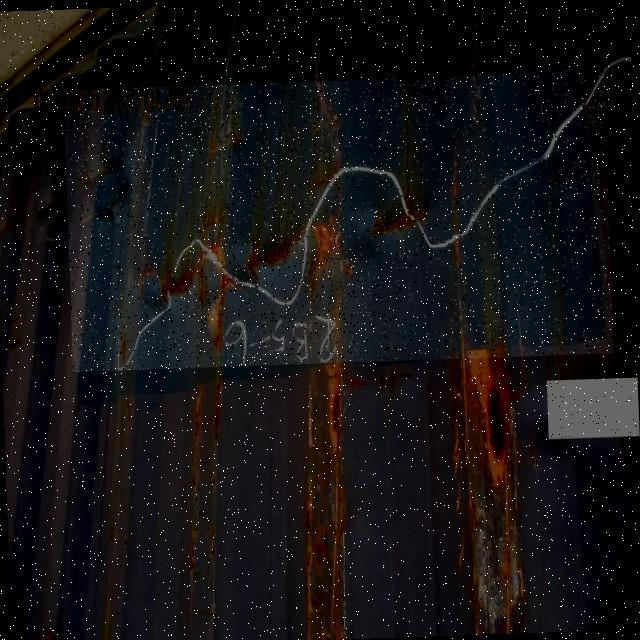Dent: (63, 69, 614, 372)
